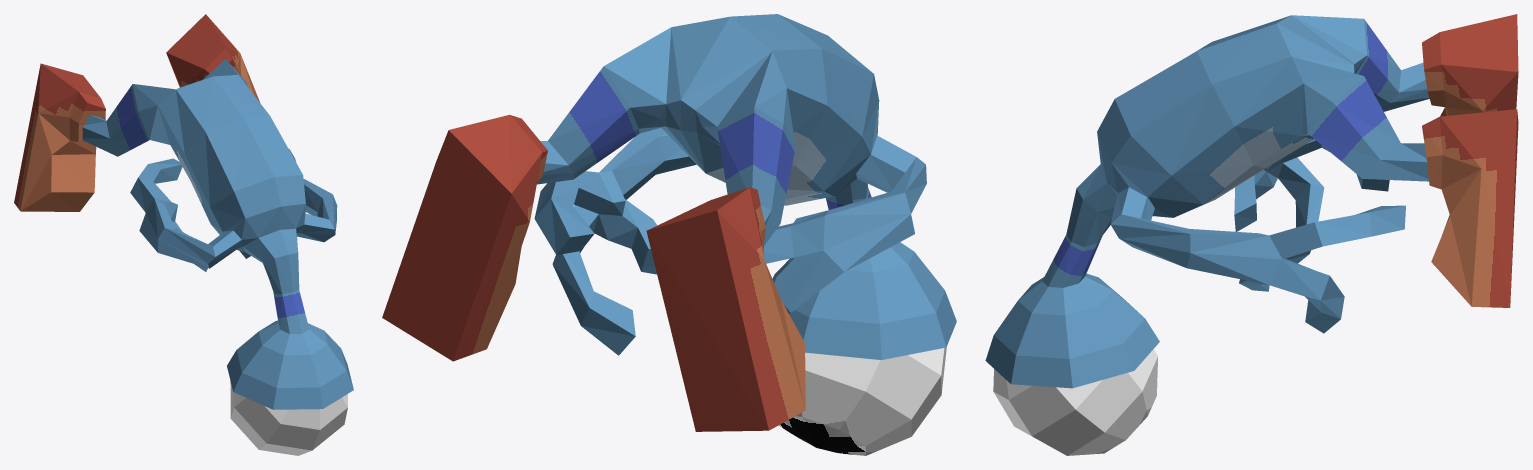
File: ned_wounded.obj
3 renders of one model, left to right at view 1: azimuth 30°, elevation 25°; view 2: azimuth 150°, elevation 25°; view 3: azimuth 270°, elevation 25°, orthographic. The views are drawn at different scales.
Parts seen in each view (by area): view 1: Sphere_Sphere.001; view 2: Sphere_Sphere.001; view 3: Sphere_Sphere.001.
Part boxes in pixels (left/top/right/bottom): Sphere_Sphere.001: left=14, top=14, right=353, bottom=455; Sphere_Sphere.001: left=382, top=14, right=956, bottom=455; Sphere_Sphere.001: left=985, top=14, right=1518, bottom=455.
Size of the model in its own units: 5.98 by 7.18 by 8.16.
Materials: 1 (1 with a texture image).
